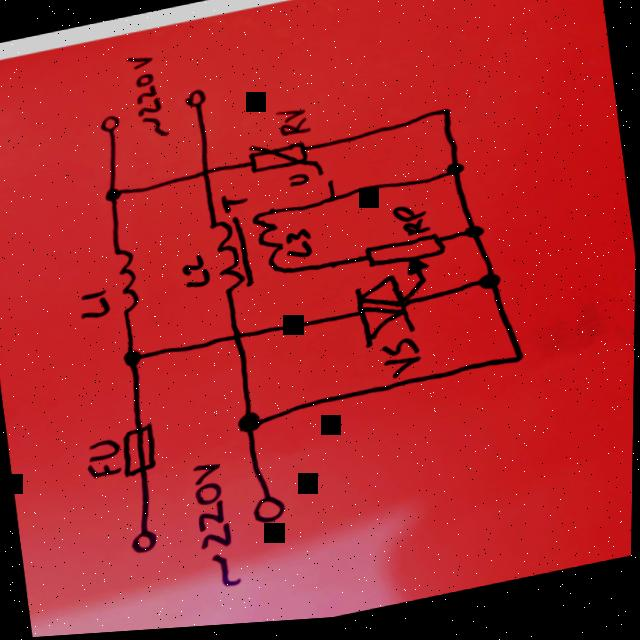crossover: (225, 324, 256, 351), (193, 160, 223, 187)
inductor: (110, 245, 146, 316)
junction: (236, 413, 265, 440), (475, 276, 503, 299), (461, 227, 485, 248), (508, 355, 533, 375), (443, 165, 467, 185), (121, 349, 143, 370), (103, 185, 125, 206), (437, 111, 456, 126)
resistor: (364, 236, 448, 289)
terminal: (248, 491, 291, 530), (127, 523, 164, 560), (97, 115, 121, 137), (183, 91, 207, 113)
text: (187, 461, 245, 594), (123, 53, 170, 145), (83, 437, 126, 482), (380, 341, 423, 386), (390, 206, 432, 244), (275, 108, 313, 143), (283, 230, 317, 266), (77, 289, 111, 323), (181, 254, 210, 293), (219, 193, 251, 218)
transformer: (204, 208, 293, 300)
